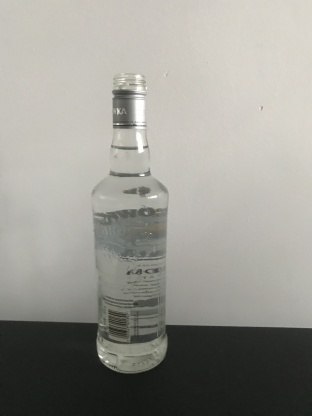nakretka: (110, 72, 147, 130)
